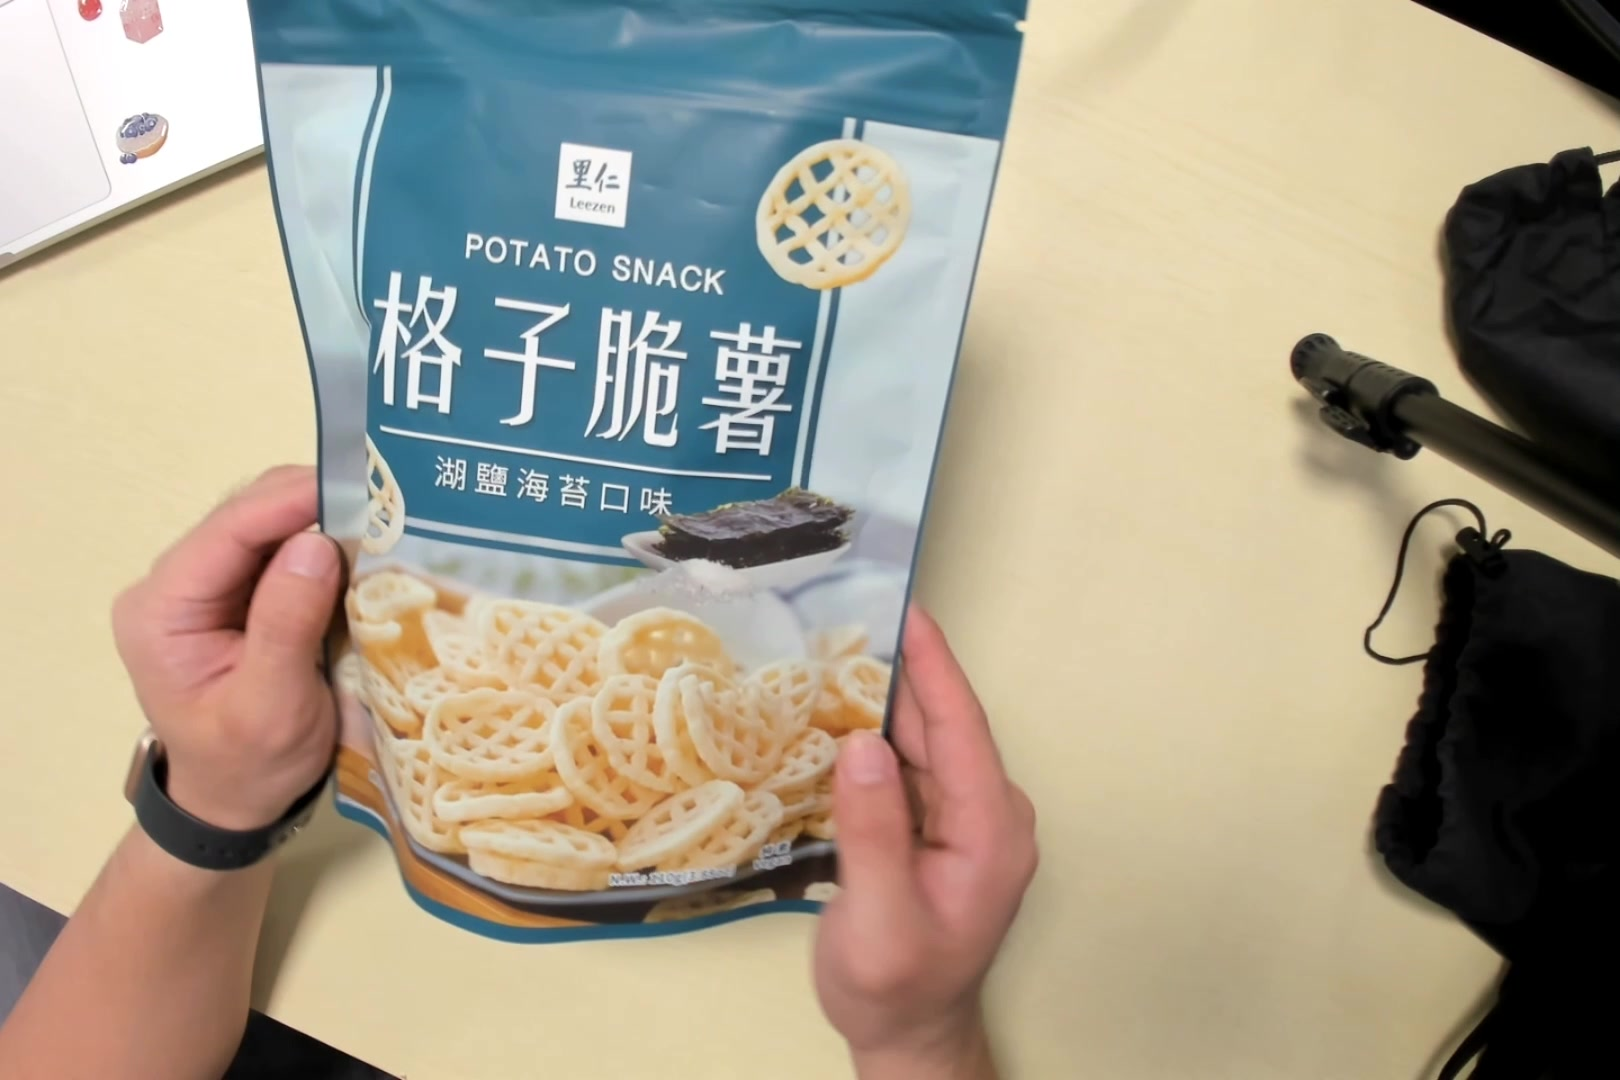PotatoChipsKeropok_100-199g_NonHalal_NonHealthy: (252, 2, 996, 925)
